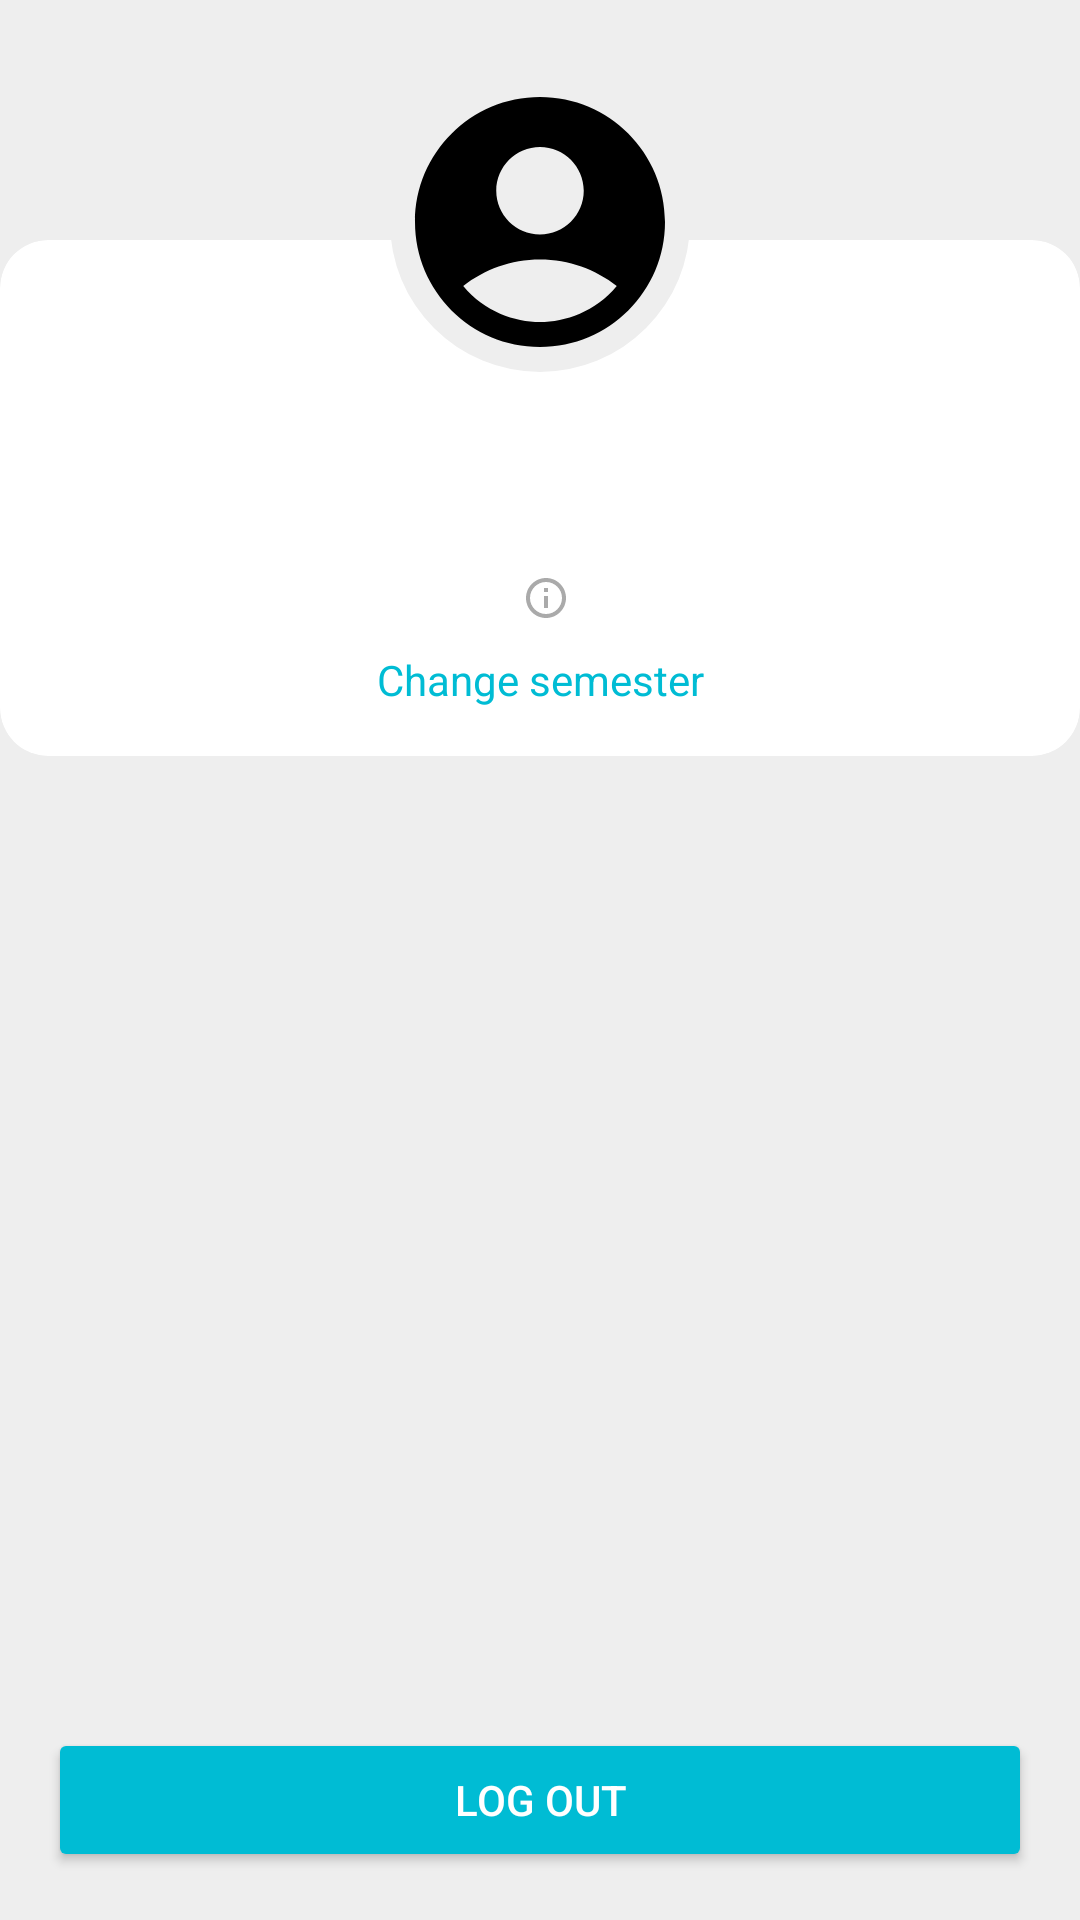

Icons on this 1080w x 1920h Android screen, each with the point to tap as (x=x, y=y):
account: (x=540, y=222)
